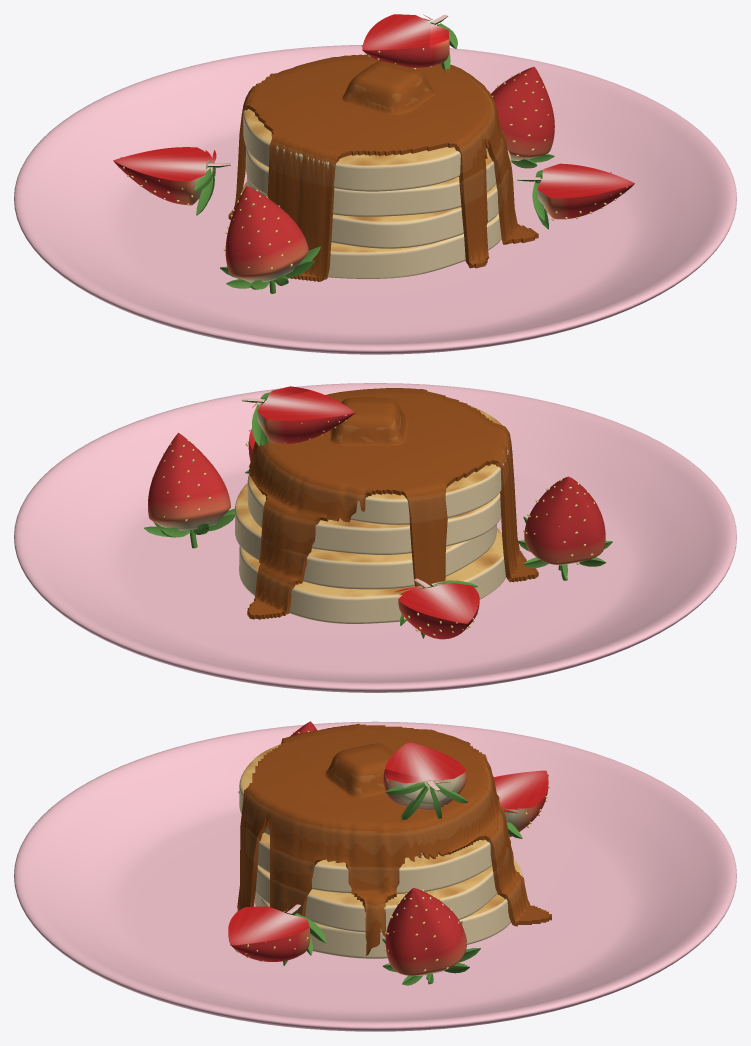
Rendered from mini-pancakes.glb.
3 renders of one model, top to bottom at view 1: azimuth 30°, elevation 25°; view 2: azimuth 150°, elevation 25°; view 3: azimuth 270°, elevation 25°, orthographic.
Parts seen in each view (by area): view 1: base, syrup, strawberry, pancakes; view 2: base, syrup, pancakes, strawberry; view 3: base, syrup, strawberry, pancakes.
Boxes of the visible parts, <box> form: base: <box>14,45,736,354</box>; syrup: <box>228,54,538,281</box>; strawberry: <box>113,14,634,293</box>; pancakes: <box>241,109,511,278</box>; base: <box>14,383,736,692</box>; syrup: <box>247,388,538,619</box>; pancakes: <box>235,404,508,623</box>; strawberry: <box>144,386,612,639</box>; base: <box>14,721,736,1031</box>; syrup: <box>237,723,551,955</box>; strawberry: <box>228,721,549,985</box>; pancakes: <box>239,744,522,958</box>.
Bounding box in the file's own units: 0.258 × 0.0741 × 0.258.
22 materials, 9 textured.
